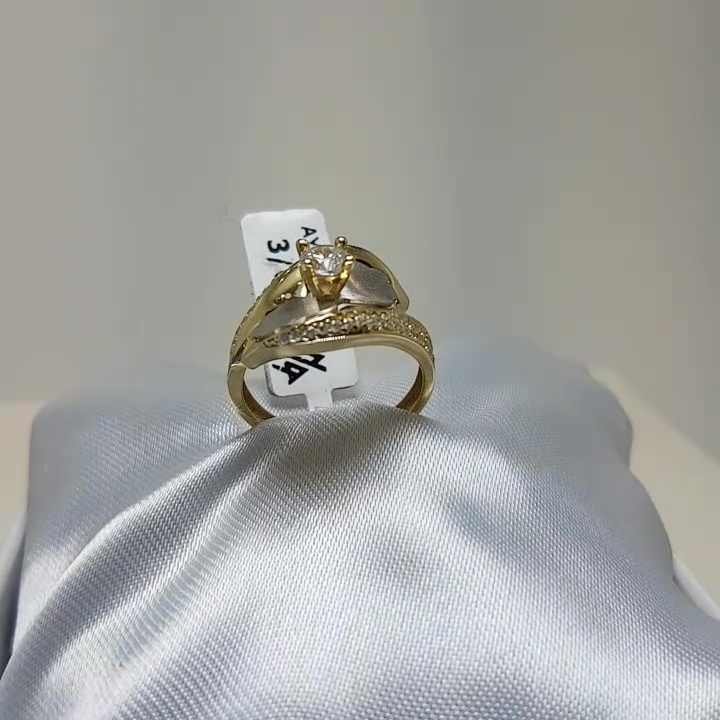Ring 6: (212, 219, 436, 469)
